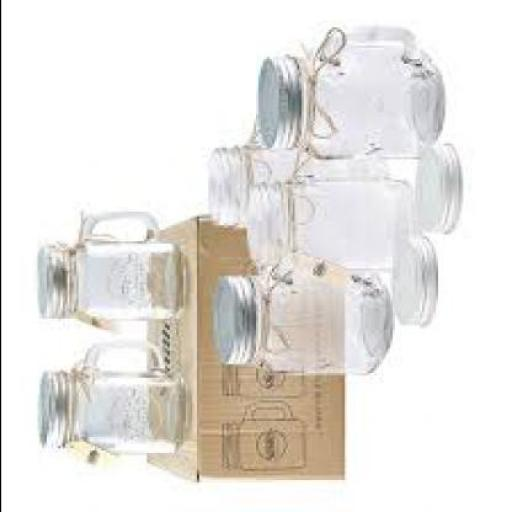cardboard: (193, 376, 341, 482), (144, 221, 193, 482), (196, 226, 214, 376), (216, 232, 246, 280)
glass: (296, 32, 441, 164), (244, 160, 407, 272), (253, 250, 387, 378), (72, 339, 180, 460), (203, 123, 323, 230), (69, 212, 177, 321)
metal: (255, 59, 298, 155), (208, 280, 250, 369), (36, 246, 71, 325), (36, 378, 66, 450)
